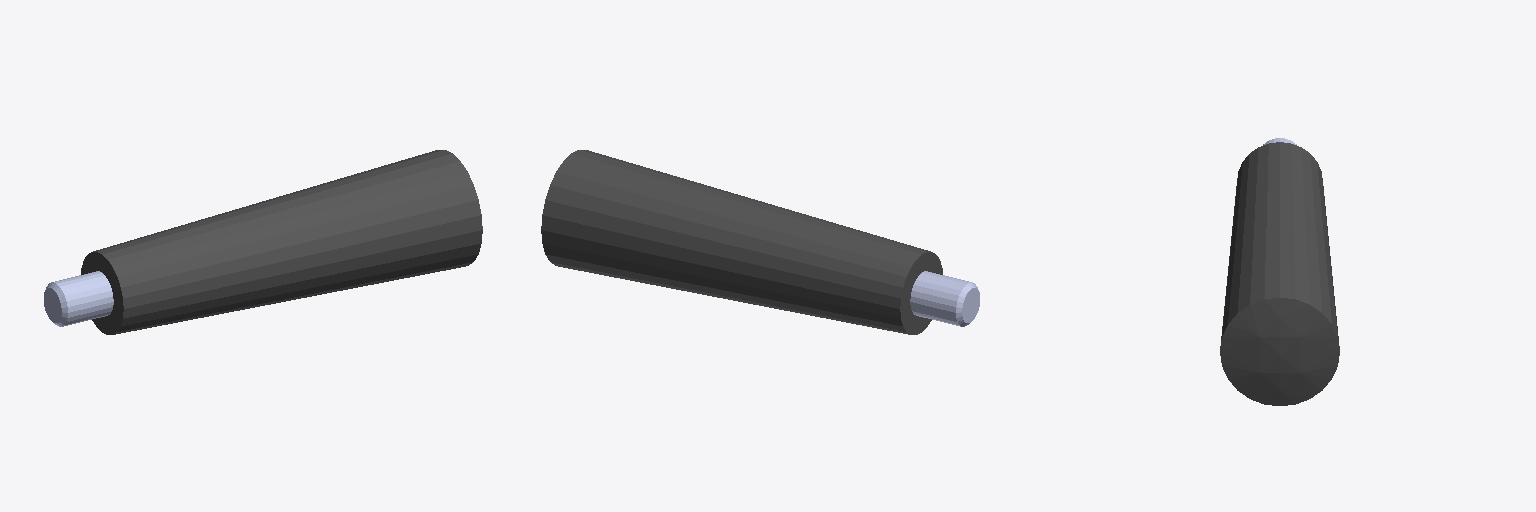
The model's file is ganter_gn_203-21-m8.obj.
The picture shows the model from 3 angles: view 1: azimuth 30°, elevation 25°; view 2: azimuth 150°, elevation 25°; view 3: azimuth 270°, elevation 25°; orthographic projection.
Parts seen in each view (by area): view 1: ganter_gn_203-21-m8_1; view 2: ganter_gn_203-21-m8_1; view 3: ganter_gn_203-21-m8_1.
Part boxes in pixels (x1,y1,x2,y2): ganter_gn_203-21-m8_1: (44, 150, 482, 334); ganter_gn_203-21-m8_1: (541, 150, 979, 334); ganter_gn_203-21-m8_1: (1220, 138, 1339, 405).
Size of the model in its own units: 82 by 21 by 21.